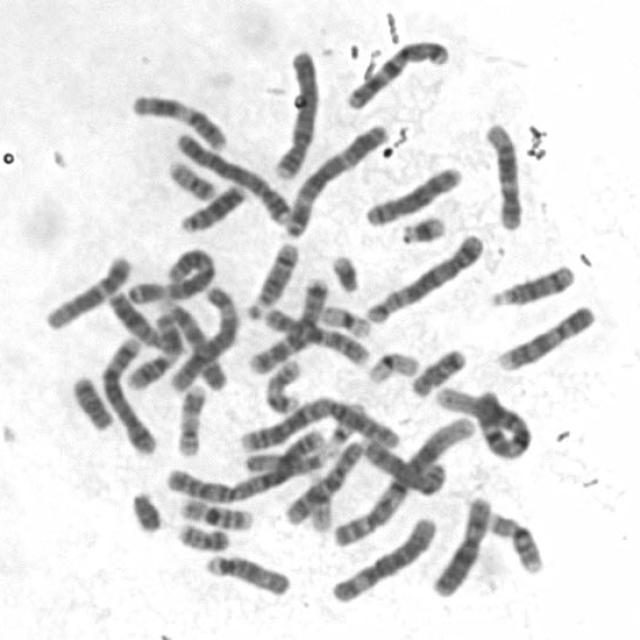A1: (327, 410, 479, 549), (431, 380, 535, 461)
A2: (160, 421, 330, 505), (232, 391, 405, 453)
A3: (278, 118, 391, 238), (123, 241, 220, 304)
B4: (170, 124, 297, 226), (269, 43, 322, 182)
B5: (360, 227, 488, 325), (98, 333, 158, 456)
C10: (279, 435, 367, 527), (260, 301, 372, 368)
C11: (126, 88, 232, 152), (120, 308, 184, 392)
C12: (40, 248, 135, 332), (481, 116, 527, 232)
C6: (326, 511, 440, 605), (165, 280, 242, 394)
C7: (244, 271, 332, 377), (341, 34, 450, 110)
C8: (360, 159, 466, 228), (356, 432, 452, 496)
C9: (492, 298, 599, 373), (154, 298, 229, 392)
D13: (104, 286, 168, 352), (175, 178, 249, 234)
D14: (484, 257, 578, 310), (246, 236, 302, 313)
D15: (200, 548, 293, 598), (240, 446, 335, 474)
E16: (483, 506, 547, 576), (173, 492, 256, 532)
E17: (258, 352, 305, 416), (171, 379, 208, 458)
E18: (406, 341, 470, 399), (66, 369, 116, 432)
F19: (316, 299, 374, 340), (362, 346, 421, 385)
F20: (162, 154, 220, 202), (172, 516, 232, 552)
G21: (396, 208, 449, 246), (326, 248, 363, 295)
G22: (324, 397, 366, 454), (302, 469, 333, 534)
X: (428, 491, 495, 598), (356, 432, 450, 496)
Y: (126, 485, 165, 534)
